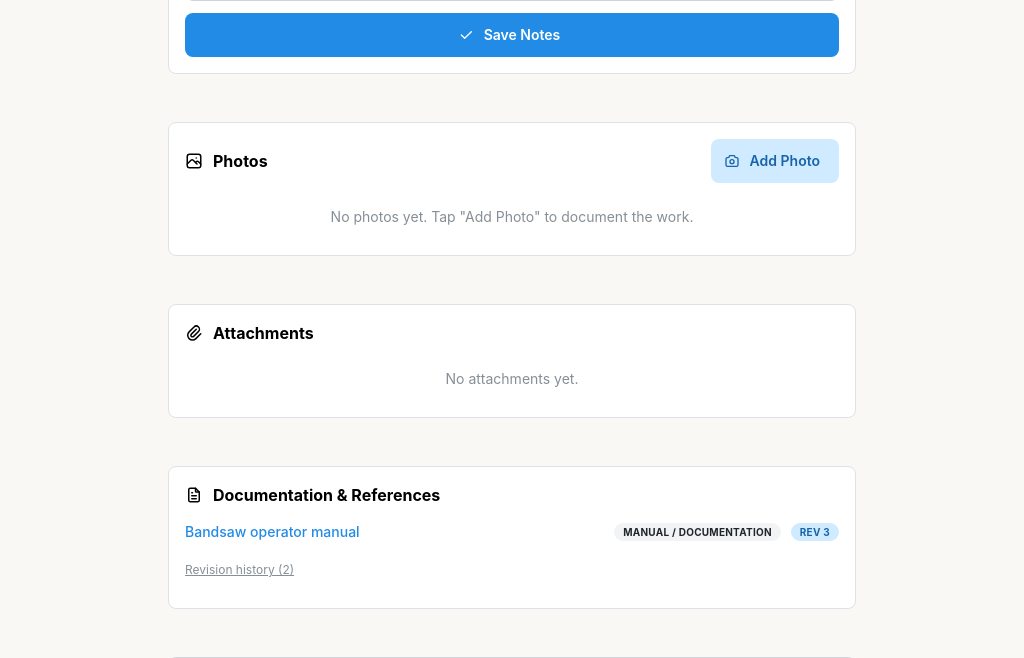
WorkOrderPage — Documentation & References (op-pzae) › keeps the revision history collapsed until it is asked for
This screenshot has width=1024, height=658.
(page scrolled)
Check: the heading "Documentation & References" is shown, box [213,484,440,508]
Check: the text "rev 2" is not shown
What coordinates should you click on to do the following:
click the button "Revision history (2)"
I would click on:
 (240, 570)
Its box is [185,548,294,592].
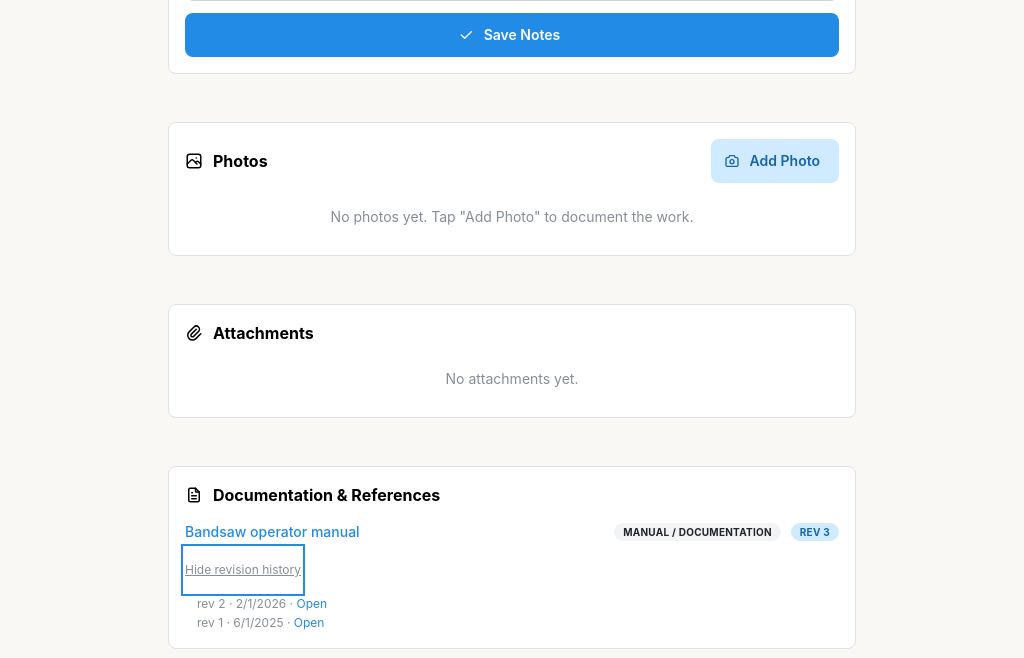
Check: the text "rev 2 · 2/1/2026 · Open" is shown, box [197,596,327,611]
Check: the text "rev 1 · 6/1/2025 · Open" is shown, box [197,615,324,630]
Check: the number of links "Open" is 2, box [296,596,327,611]; [294,615,324,630]
